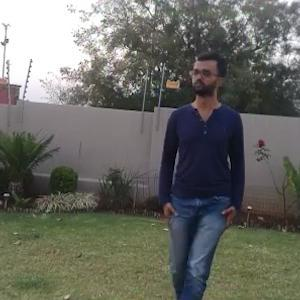follow: (155, 37, 251, 299)
